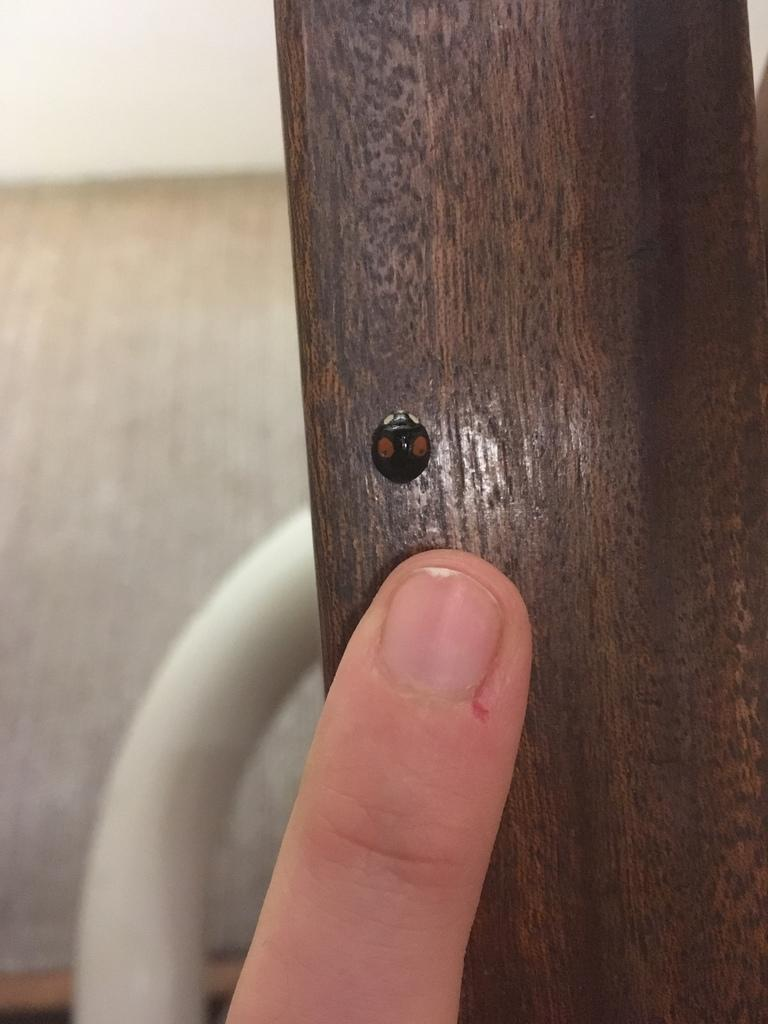ladybug: (372, 409, 434, 486)
